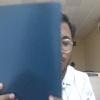notebook: (0, 0, 62, 99)
